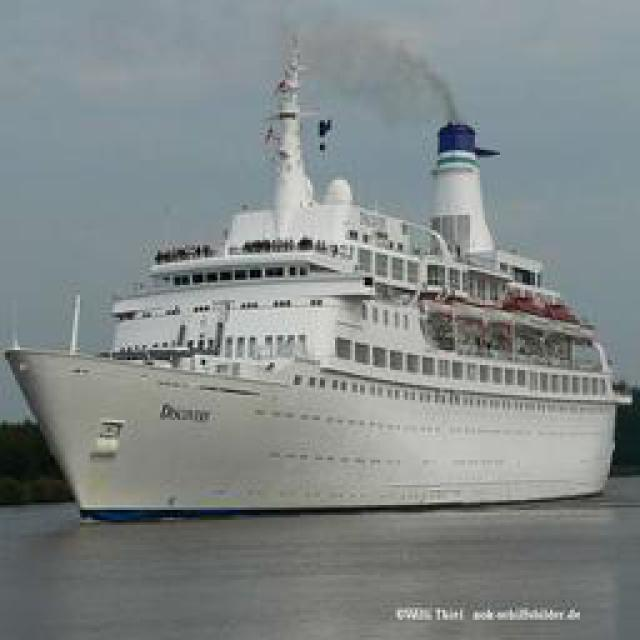Ship: (19, 50, 624, 543)
